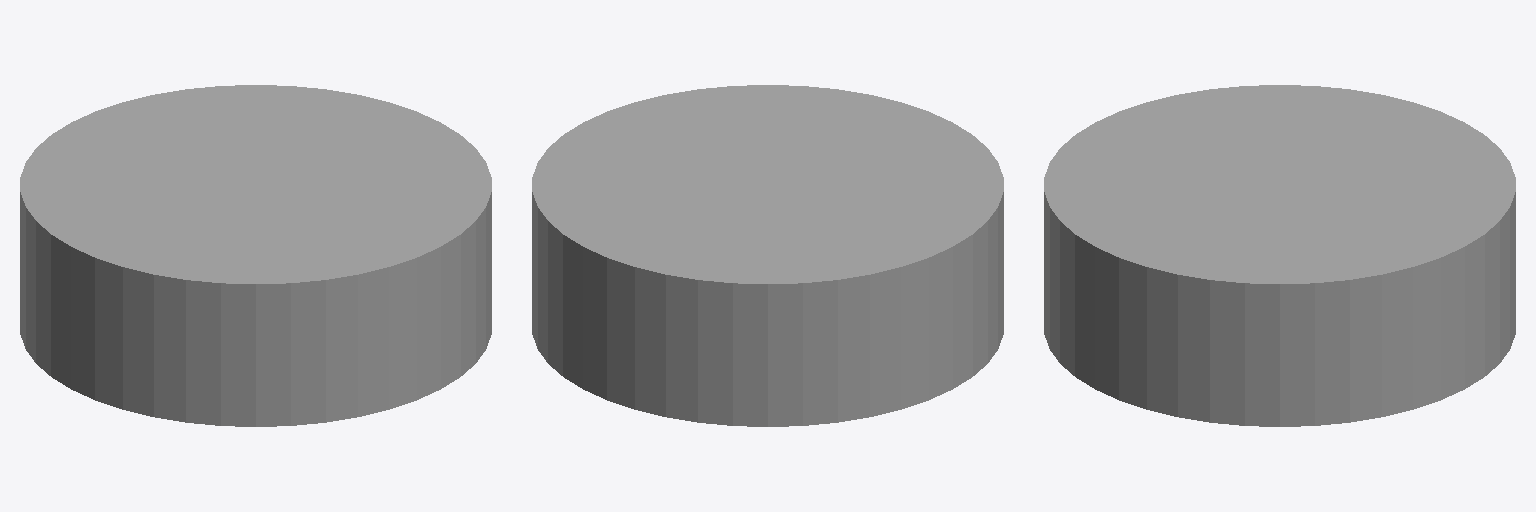
URDF robot description (ur5):
<?xml version="1.0" ?>
<!-- =================================================================================== -->
<!-- |    This document was autogenerated by xacro from ur.urdf.xacro                  | -->
<!-- |    EDITING THIS FILE BY HAND IS NOT RECOMMENDED                                 | -->
<!-- =================================================================================== -->
<robot name="ur5">
  <material name="LightGrey"><color rgba="0.7 0.7 0.7 0.2"/></material>
  <material name="LightBlue"><color rgba="0.7 0.7 0.8 0.2"/></material>
  <material name="LightGreen"><color rgba="0.7 0.8 0.7 0.2"/></material>
  <material name="LightRed"><color rgba="0.8 0.7 0.7 0.2"/></material>
  <link name="base_link">
    <inertial>
      <mass value="0.0"/>
      <origin rpy="0 0 0" xyz="0 0 0"/>
      <inertia ixx="0.0" ixy="0.0" ixz="0.0" iyy="0.0" iyz="0.0" izz="0.0"/>
    </inertial>
  </link>
  <link name="base_link_inertia">
    <visual>
      <origin rpy="0 0 3.141592653589793" xyz="0 0 0"/>
      <geometry>
        <mesh filename="meshes/ur5/visual/base.obj"/>
      </geometry>
      <material name="LightGrey"/>
    </visual>
    <collision>
      <origin rpy="0 0 3.141592653589793" xyz="0 0 0"/>
      <geometry>
        <mesh filename="meshes/ur5/collision/base.stl"/>
      </geometry>
    </collision>
    <inertial>
      <mass value="4.0"/>
      <origin rpy="0 0 0" xyz="0 0 0"/>
      <inertia ixx="0.00443333156" ixy="0.0" ixz="0.0" iyy="0.00443333156" iyz="0.0" izz="0.0072"/>
    </inertial>
  </link>
  <link name="shoulder_link">
    <visual>
      <origin rpy="0 0 3.141592653589793" xyz="0 0 0"/>
      <geometry>
        <mesh filename="meshes/ur5/visual/shoulder.obj"/>
      </geometry>
      <material name="LightBlue"/>
    </visual>
    <collision>
      <origin rpy="0 0 3.141592653589793" xyz="0 0 0"/>
      <geometry>
        <mesh filename="meshes/ur5/collision/shoulder.stl"/>
      </geometry>
    </collision>
    <inertial>
      <mass value="3.7"/>
      <origin rpy="0 0 0" xyz="0 0 0"/>
      <inertia ixx="0.014972352344389999" ixy="0.0" ixz="0.0" iyy="0.014972352344389999" iyz="0.0" izz="0.01040625"/>
    </inertial>
  </link>
  <link name="upper_arm_link">
    <visual>
      <origin rpy="1.5707963267948966 0 -1.5707963267948966" xyz="0 0 0.13585"/>
      <geometry>
        <mesh filename="meshes/ur5/visual/upperarm.obj"/>
      </geometry>
      <material name="LightGreen"/>
    </visual>
    <collision>
      <origin rpy="1.5707963267948966 0 -1.5707963267948966" xyz="0 0 0.13585"/>
      <geometry>
        <mesh filename="meshes/ur5/collision/upperarm.stl"/>
      </geometry>
    </collision>
    <inertial>
      <mass value="8.393"/>
      <origin rpy="0 1.5707963267948966 0" xyz="-0.2125 0.0 0.136"/>
      <inertia ixx="0.1338857818623325" ixy="0.0" ixz="0.0" iyy="0.1338857818623325" iyz="0.0" izz="0.0151074"/>
    </inertial>
  </link>
  <link name="forearm_link">
    <visual>
      <origin rpy="1.5707963267948966 0 -1.5707963267948966" xyz="0 0 0.0165"/>
      <geometry>
        <mesh filename="meshes/ur5/visual/forearm.obj"/>
      </geometry>
      <material name="LightRed"/>
    </visual>
    <collision>
      <origin rpy="1.5707963267948966 0 -1.5707963267948966" xyz="0 0 0.0165"/>
      <geometry>
        <mesh filename="meshes/ur5/collision/forearm.stl"/>
      </geometry>
    </collision>
    <inertial>
      <mass value="2.275"/>
      <origin rpy="0 1.5707963267948966 0" xyz="-0.196125 0.0 0.0165"/>
      <inertia ixx="0.03121679102890359" ixy="0.0" ixz="0.0" iyy="0.03121679102890359" iyz="0.0" izz="0.004095"/>
    </inertial>
  </link>
  <link name="wrist_1_link">
    <visual>
      <origin rpy="1.5707963267948966 0 0" xyz="0 0 -0.093"/>
      <geometry>
        <mesh filename="meshes/ur5/visual/wrist1.obj"/>
      </geometry>
      <material name="LightGrey"/>
    </visual>
    <collision>
      <origin rpy="1.5707963267948966 0 0" xyz="0 0 -0.093"/>
      <geometry>
        <mesh filename="meshes/ur5/collision/wrist1.stl"/>
      </geometry>
    </collision>
    <inertial>
      <mass value="1.219"/>
      <origin rpy="0 0 0" xyz="0 0 0"/>
      <inertia ixx="0.0020138887777775" ixy="0.0" ixz="0.0" iyy="0.0020138887777775" iyz="0.0" izz="0.0021942"/>
    </inertial>
  </link>
  <link name="wrist_2_link">
    <visual>
      <origin rpy="0 0 0" xyz="0 0 -0.095"/>
      <geometry>
        <mesh filename="meshes/ur5/visual/wrist2.obj"/>
      </geometry>
      <material name="LightBlue"/>
    </visual>
    <collision>
      <origin rpy="0 0 0" xyz="0 0 -0.095"/>
      <geometry>
        <mesh filename="meshes/ur5/collision/wrist2.stl"/>
      </geometry>
    </collision>
    <inertial>
      <mass value="1.219"/>
      <origin rpy="0 0 0" xyz="0 0 0"/>
      <inertia ixx="0.0018310388509175" ixy="0.0" ixz="0.0" iyy="0.0018310388509175" iyz="0.0" izz="0.0021942"/>
    </inertial>
  </link>
  <link name="wrist_3_link">   <!--Solve iK for this link.-->
    <visual>
      <origin rpy="1.5707963267948966 0 0" xyz="0 0 -0.0818"/>
      <geometry>
        <mesh filename="meshes/ur5/visual/wrist3.obj"/>
      </geometry>
      <material name="LightGreen"/>
    </visual>
    <collision>
      <origin rpy="1.5707963267948966 0 0" xyz="0 0 -0.0818"/>
      <geometry>
        <mesh filename="meshes/ur5/collision/wrist3.stl"/>
      </geometry>
    </collision>
    <inertial>
      <mass value="0.1879"/>
      <origin rpy="0 0 0" xyz="0.0 0.0 -0.01525"/>
      <inertia ixx="8.062472608343e-05" ixy="0.0" ixz="0.0" iyy="8.062472608343e-05" iyz="0.0" izz="0.0001321171875"/>
    </inertial>
  </link>
  <!--Suction Gripper-->
  <material name="DarkGrey"><color rgba="0.2 0.2 0.2 0.2"/></material>
  <material name="Blue"><color rgba="0.18039216, 0.50588235, 0.77254902 0.2"/></material>
  <link name="suctionBaseLink">
    <contact>
      <lateral_friction value="1.0"/>
      <rolling_friction value="0.0001"/>
      <inertia_scaling value="3.0"/>
    </contact>
    <inertial>
      <origin rpy="0 0 0" xyz="0 0 0.0"/>
       <mass value=".1"/>
       <inertia ixx="1" ixy="0" ixz="0" iyy="1" iyz="0" izz="1"/>
    </inertial>
    <visual>
      <origin rpy="0 0 0" xyz="0 0 0.0"/>
      <geometry>
        <mesh filename="suction/base.obj" scale="0.001 0.001 0.001"/>
      </geometry>
      <material name="DarkGrey"/>
    </visual>
    <collision>
      <origin rpy="0 0 0" xyz="0 0 0.0"/>
      <geometry>
        <mesh filename="suction/base.obj" scale="0.001 0.001 0.001"/>
      </geometry>
    </collision>
  </link>
  <link name="EPick">
    <contact>
      <lateral_friction value="1.0"/>
      <rolling_friction value="0.0001"/>
      <inertia_scaling value="3.0"/>
    </contact>
    <inertial>
      <origin rpy="0 0 0" xyz="0 0 0"/>
       <mass value=".1"/>
       <inertia ixx="1" ixy="0" ixz="0" iyy="1" iyz="0" izz="1"/>
    </inertial>
    <visual>
      <origin rpy="1.57079 0 0" xyz="0 0 0"/>
      <geometry>
        <mesh filename="suction/EPick.obj" scale="0.001 0.001 0.001"/>
      </geometry>
      <material name="DarkGrey"/>
    </visual>
    <collision>
      <origin rpy="1.57079 0 0" xyz="0 0 0"/>
      <geometry>
        <mesh filename="suction/EPick_vhacd.obj" scale="0.001 0.001 0.001"/>
      </geometry>
    </collision>
  </link>
  <link name="headLink">
    <contact>
      <lateral_friction value="1.0"/>
      <rolling_friction value="0.0001"/>
      <inertia_scaling value="3.0"/>
    </contact>
    <inertial>
      <origin rpy="0 0 0" xyz="0 0 0"/>
       <mass value=".1"/>
       <inertia ixx="1" ixy="0" ixz="0" iyy="1" iyz="0" izz="1"/>
    </inertial>
    <visual>
      <origin rpy="0 0 0" xyz="0 0 0"/>
      <geometry>
        <mesh filename="suction/head.obj" scale="0.001 0.001 0.001"/>
      </geometry>
      <material name="DarkGrey"/>
    </visual>
    <collision>
      <origin rpy="0 0 0" xyz="0 0 0"/>
      <geometry>
        <mesh filename="suction/head.obj" scale="0.002 0.002 0.001"/>
      </geometry>
    </collision>
  </link>
  <link name="tipLink">
    <contact>
      <lateral_friction value="1.0"/>
      <rolling_friction value="0.0001"/>
      <inertia_scaling value="3.0"/>
      <restitution value="0.2"/>
    </contact>
    <inertial>
      <origin rpy="0 0 0" xyz="0 0 0"/>
       <mass value=".1"/>
       <inertia ixx="1" ixy="0" ixz="0" iyy="1" iyz="0" izz="1"/>
    </inertial>
    <visual>
      <origin rpy="0 0 0" xyz="0 0 0"/>
      <geometry>
        <mesh filename="suction/tip.obj" scale="0.002 0.002 0.001"/>
      </geometry>
      <material name="Blue"/>
    </visual>
  </link>
  <link name="tipCollision1">
    <contact>
      <lateral_friction value="1.0"/>
      <rolling_friction value="0.0001"/>
      <inertia_scaling value="3.0"/>
      <restitution value="0.2"/>
    </contact>
    <inertial>
      <origin rpy="0 0 0" xyz="0 0 0"/>
        <mass value=".0001"/>
        <inertia ixx="0.0001" ixy="0" ixz="0" iyy="0.0001" iyz="0" izz="0.0001"/>
    </inertial>
    <visual>
      <origin rpy="0 0 0" xyz="0 0 0"/>
      <geometry>
        <cylinder length="0.005" radius="0.001"/>
      </geometry>      
      <material name="Blue"/>
    </visual>
    <collision>
      <origin rpy="0 0 0" xyz="0 0 0"/>
      <geometry>
        <cylinder length="0.005" radius="0.001"/>
      </geometry>
    </collision>
  </link>
  <link name="tipCollision3">
    <contact>
      <lateral_friction value="1.0"/>
      <rolling_friction value="0.0001"/>
      <inertia_scaling value="3.0"/>
      <restitution value="0.2"/>
    </contact>
    <inertial>
      <origin rpy="0 0 0" xyz="0 0 0"/>
        <mass value=".0001"/>
        <inertia ixx="0.0001" ixy="0" ixz="0" iyy="0.0001" iyz="0" izz="0.0001"/>
    </inertial>
    <visual>
      <origin rpy="0 0 0" xyz="0 0 0"/>
      <geometry>
        <cylinder length="0.005" radius="0.001"/>
      </geometry>
      <material name="Blue"/>
    </visual>
    <collision>
      <origin rpy="0 0 0" xyz="0 0 0"/>
      <geometry>
        <cylinder length="0.005" radius="0.001"/>
      </geometry>
    </collision>
  </link>
  <link name="tipCollision5">
    <contact>
      <lateral_friction value="1.0"/>
      <rolling_friction value="0.0001"/>
      <inertia_scaling value="3.0"/>
      <restitution value="0.2"/>
    </contact>
    <inertial>
      <origin rpy="0 0 0" xyz="0 0 0"/>
        <mass value=".0001"/>
        <inertia ixx="0.0001" ixy="0" ixz="0" iyy="0.0001" iyz="0" izz="0.0001"/>
    </inertial>
    <visual>
      <origin rpy="0 0 0" xyz="0 0 0"/>
      <geometry>
        <cylinder length="0.005" radius="0.001"/>
      </geometry>
      <material name="Blue"/>
    </visual>
    <collision>
      <origin rpy="0 0 0" xyz="0 0 0"/>
      <geometry>
        <cylinder length="0.005" radius="0.001"/>
      </geometry>
    </collision>
  </link>
  <link name="tipCollision7">
    <contact>
      <lateral_friction value="1.0"/>
      <rolling_friction value="0.0001"/>
      <inertia_scaling value="3.0"/>
      <restitution value="0.2"/>
    </contact>
    <inertial>
      <origin rpy="0 0 0" xyz="0 0 0"/>
        <mass value=".0001"/>
        <inertia ixx="0.0001" ixy="0" ixz="0" iyy="0.0001" iyz="0" izz="0.0001"/>
    </inertial>
    <visual>
      <origin rpy="0 0 0" xyz="0 0 0"/>
      <geometry>
        <cylinder length="0.005" radius="0.001"/>
      </geometry>
      <material name="Blue"/>
    </visual>
    <collision>
      <origin rpy="0 0 0" xyz="0 0 0"/>
      <geometry>
        <cylinder length="0.005" radius="0.001"/>
      </geometry>
    </collision>
  </link>
  <!-- joints - main serial chain -->
  <joint name="base_link-base_link_inertia" type="fixed">     <!--Joint 0-->
    <parent link="base_link"/>
    <child link="base_link_inertia"/>
    <!-- 'base_link' is REP-103 aligned (so X+ forward), while the internal
           frames of the robot/controller have X+ pointing backwards.
           Use the joint between 'base_link' and 'base_link_inertia' (a dummy
           link/frame) to introduce the necessary rotation over Z (of pi rad).
      -->
    <origin rpy="0 0 3.141592653589793" xyz="0 0 0"/>
  </joint>
  <joint name="shoulder_pan_joint" type="revolute">           <!--Joint 1-->
    <parent link="base_link_inertia"/>
    <child link="shoulder_link"/>
    <origin rpy="0 0 0" xyz="0 0 0.089159"/>
    <axis xyz="0 0 1"/>
    <limit effort="150.0" lower="-6.283185307179586" upper="6.283185307179586" velocity="3.141592653589793"/>
    <dynamics damping="0" friction="0"/>
  </joint>
  <joint name="shoulder_lift_joint" type="revolute">          <!--Joint 2-->
    <parent link="shoulder_link"/>
    <child link="upper_arm_link"/>
    <origin rpy="1.570796327 0 0" xyz="0 0 0"/>
    <axis xyz="0 0 1"/>
    <limit effort="150.0" lower="-6.283185307179586" upper="6.283185307179586" velocity="3.141592653589793"/>
    <dynamics damping="0" friction="0"/>
  </joint>
  <joint name="elbow_joint" type="revolute">                  <!--Joint 3-->
    <parent link="upper_arm_link"/>
    <child link="forearm_link"/>
    <origin rpy="0 0 0" xyz="-0.425 0 0"/>
    <axis xyz="0 0 1"/>
    <limit effort="150.0" lower="-3.141592653589793" upper="3.141592653589793" velocity="3.141592653589793"/>
    <dynamics damping="0" friction="0"/>
  </joint>
  <joint name="wrist_1_joint" type="revolute">                <!--Joint 4-->
    <parent link="forearm_link"/>
    <child link="wrist_1_link"/>
    <origin rpy="0 0 0" xyz="-0.39225 0 0.10915"/>
    <axis xyz="0 0 1"/>
    <limit effort="28.0" lower="-6.283185307179586" upper="6.283185307179586" velocity="3.141592653589793"/>
    <dynamics damping="0" friction="0"/>
  </joint>
  <joint name="wrist_2_joint" type="revolute">                <!--Joint 5-->
    <parent link="wrist_1_link"/>
    <child link="wrist_2_link"/>
    <origin rpy="1.570796327 0 0" xyz="0 -0.09465 -1.941303950897609e-11"/>
    <axis xyz="0 0 1"/>
    <limit effort="28.0" lower="-6.283185307179586" upper="6.283185307179586" velocity="3.141592653589793"/>
    <dynamics damping="0" friction="0"/>
  </joint>
  <joint name="wrist_3_joint" type="revolute">                <!--Joint 6, solve IK for this joint.--> 
    <parent link="wrist_2_link"/>
    <child link="wrist_3_link"/>
    <origin rpy="1.570796326589793 3.141592653589793 3.141592653589793" xyz="0 0.0823 -1.688001216681175e-11"/>
    <axis xyz="0 0 1"/>
    <limit effort="28.0" lower="-6.283185307179586" upper="6.283185307179586" velocity="3.141592653589793"/>
    <dynamics damping="0" friction="0"/>
  </joint>
  <!-- Gripper joints -->
  <joint name="ee_fixed_joint" type="fixed">                  <!--Joint 7-->
    <parent link="wrist_3_link"/>
    <child link="suctionBaseLink"/>
    <origin rpy="0.0 0.0 0.0" xyz="0.0 0.0 0.0"/> 
  </joint>
  <joint name="baseLink-midLink" type="fixed">                <!--Joint 8-->
    <origin rpy="0 0 0" xyz="0 0 0.115"/>
    <parent link="suctionBaseLink"/>
    <child link="EPick"/>
  </joint>
  <joint name="headJoint" type="fixed">                       <!--Joint 9-->
    <origin rpy="0 0 3.1415926" xyz="0 0 0.0"/>
    <parent link="EPick"/>
    <child link="headLink"/>
  </joint>
  <joint name="tipJoint" type="fixed">                        <!--Joint 10-->
    <parent link="headLink"/>
    <child link="tipLink"/>
    <origin rpy="0.0 0.0 0.0" xyz="0.0 0.0 0.015"/>
    <axis xyz="0 0 1"/>
    <limit effort="150.0" lower="-6.28318530718" upper="6.28318530718" velocity="3.15"/>
    <dynamics damping="10.0" friction="0.0"/>
  </joint>
  <joint name="tipCollision1Joint" type="fixed">                        <!--Joint 11-->
    <parent link="tipLink"/>
    <child link="tipCollision1"/>
    <origin rpy="0.0 0.0 0.0" xyz="0.016 0.0 0.015"/>
    <axis xyz="0 0 1"/>
  </joint>
  <joint name="tipCollision3Joint" type="fixed">                        <!--Joint 13-->
    <parent link="tipLink"/>
    <child link="tipCollision3"/>
    <origin rpy="0.0 0.0 0.0" xyz="0.0 0.016 0.015"/>
    <axis xyz="0 0 1"/>
  </joint>
  <joint name="tipCollision5Joint" type="fixed">                        <!--Joint 15-->
    <parent link="tipLink"/>
    <child link="tipCollision5"/>
    <origin rpy="0.0 0.0 0.0" xyz="-0.016 0.0 0.015"/>
    <axis xyz="0 0 1"/>
  </joint>
  <joint name="tipCollision7Joint" type="fixed">                        <!--Joint 17-->
    <parent link="tipLink"/>
    <child link="tipCollision7"/>
    <origin rpy="0.0 0.0 0.0" xyz="0.0 -0.016 0.015"/>
    <axis xyz="0 0 1"/>
  </joint>
</robot>

--- What the picture shows (computed from the rendered views, not written in the file) ---
3 views of the same robot in one strip: view 1: azimuth 30°, elevation 25°; view 2: azimuth 150°, elevation 25°; view 3: azimuth 270°, elevation 25° (orthographic).
Model ur5 with 16 links and 15 joints (6 revolute, 9 fixed), rooted at base_link, posed every joint at zero.
Links seen in each view (by area): view 1: base_link_inertia; view 2: base_link_inertia; view 3: base_link_inertia.
Boxes of the visible links, box(x1,y1,x2,y2) form: base_link_inertia: box(20, 85, 491, 426); base_link_inertia: box(532, 85, 1003, 426); base_link_inertia: box(1044, 85, 1515, 426).
Size in the robot's own frame: 75 by 74.79 by 25.04 metres.
Meshes: 11 distinct files referenced, 3 mesh visuals loaded (2 OBJ); not drawn: 8 (reference not matched to a file when rendering).